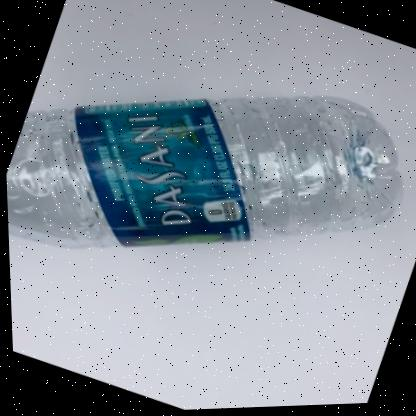Plastic: (5, 97, 399, 248)
